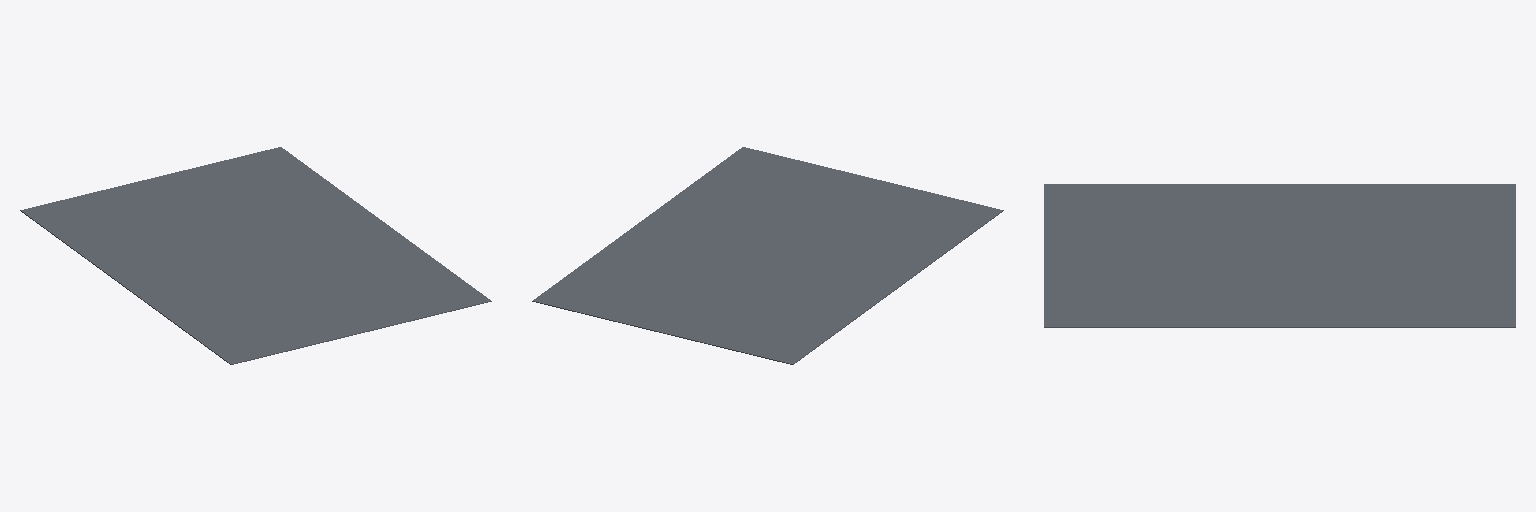
URDF robot description (stirfry_plate):
<?xml version="1.0"?>
<!--
  Converted from stirfry_plate_1500x2100.step.
  The source mesh origin is one corner; the URDF origin recentres it on XY.
  Retained as an asset, but excluded from the proposed full-booth layout because it
  cannot cover the three tables, 1 m passage and Bonitkit together.
-->
<robot name="stirfry_plate">
  <material name="plate_gray"><color rgba="0.45 0.47 0.50 1.0"/></material>
  <link name="base_link">
    <inertial>
      <origin xyz="0 0 0.0025"/>
      <mass value="25.0"/>
      <inertia ixx="9.18755" ixy="0" ixz="0" iyy="4.68755" iyz="0" izz="13.875"/>
    </inertial>
    <visual>
      <origin xyz="-0.75 1.05 0"/>
      <geometry><mesh filename="meshes/stirfry_plate_1500x2100.stl" scale="1 1 1"/></geometry>
      <material name="plate_gray"/>
    </visual>
    <collision>
      <origin xyz="0 0 0.0025"/>
      <geometry><box size="1.50 2.10 0.005"/></geometry>
    </collision>
  </link>
</robot>

--- What the picture shows (computed from the rendered views, not written in the file) ---
The picture shows the robot from 3 angles, left to right: view 1: azimuth 30°, elevation 25°; view 2: azimuth 150°, elevation 25°; view 3: azimuth 270°, elevation 25°; orthographic projection.
Model stirfry_plate with 1 links and 0 joints (none), rooted at base_link, posed every joint at zero.
Links seen in each view (by area): view 1: base_link; view 2: base_link; view 3: base_link.
Boxes of the visible links, <box> form: base_link: <box>20,147,491,364</box>; base_link: <box>532,147,1003,364</box>; base_link: <box>1044,184,1515,327</box>.
Bounding box of the posed robot: 1.5 × 2.1 × 0.005 m (x, y, z).
Meshes: 1 distinct files referenced, 1 mesh visuals loaded (1 binary STL).
